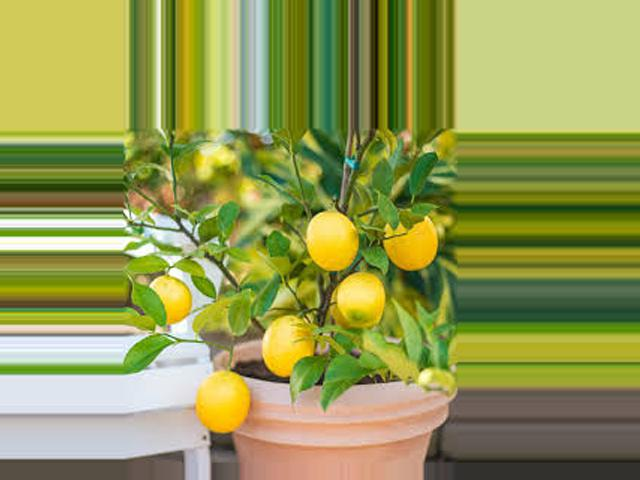lemon: (146, 268, 192, 334)
